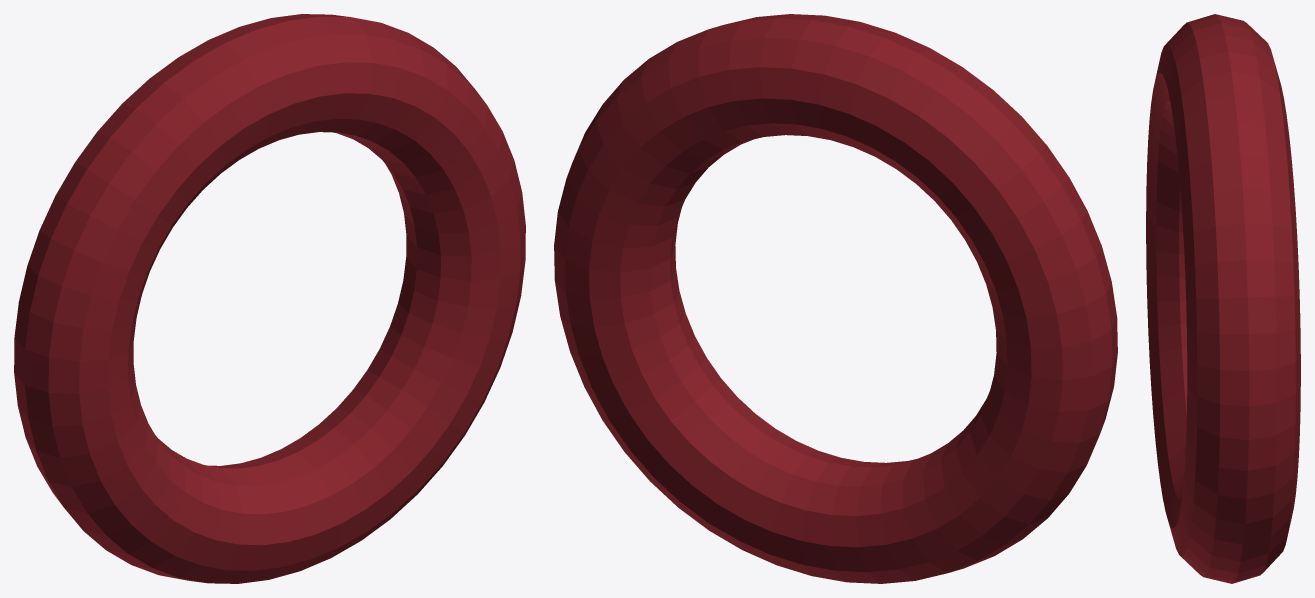
The model's file is weapon1Disc.fbx.
3 views of the same model, side by side, from view 1: azimuth 30°, elevation 25°; view 2: azimuth 150°, elevation 25°; view 3: azimuth 270°, elevation 25° (orthographic). The views are drawn at different scales.
Visible parts, largest first — view 1: Torus.008; view 2: Torus.008; view 3: Torus.008.
Boxes of the visible parts, <box> form: Torus.008: <box>14,14,525,583</box>; Torus.008: <box>554,14,1117,583</box>; Torus.008: <box>1146,14,1300,583</box>.
Bounding box in the file's own units: 451 × 453 × 123.
